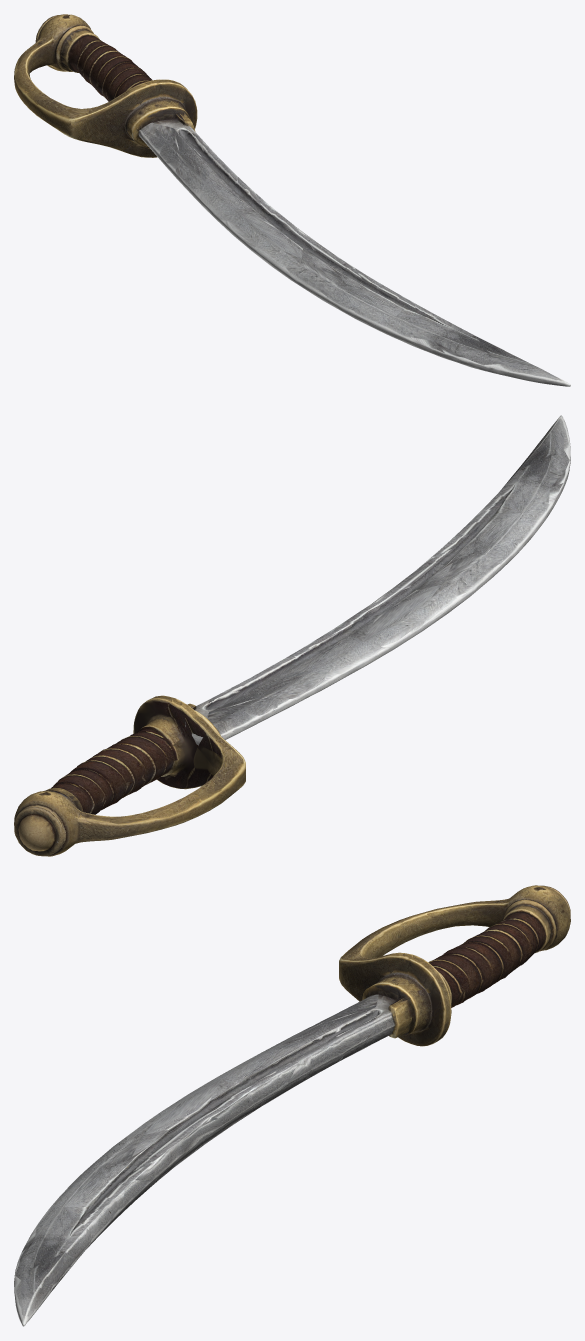
File: sabre.glb
3 views of the same model, one above another, from view 1: azimuth 30°, elevation 25°; view 2: azimuth 150°, elevation 25°; view 3: azimuth 330°, elevation 25° (orthographic). The views are drawn at different scales.
Parts seen in each view (by area): view 1: sabre; view 2: sabre; view 3: sabre.
Part boxes in pixels (x1,y1,x2,y2): sabre: (14, 14, 570, 386); sabre: (14, 415, 570, 856); sabre: (14, 885, 570, 1326).
Bounding box in the file's own units: 0.1255 × 0.0747 × 0.8999.
Materials: 1 (1 with a texture image).
